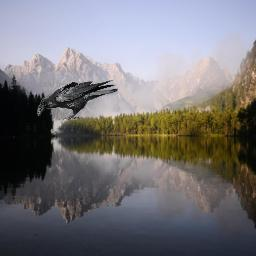Crow: (37, 80, 118, 120)
